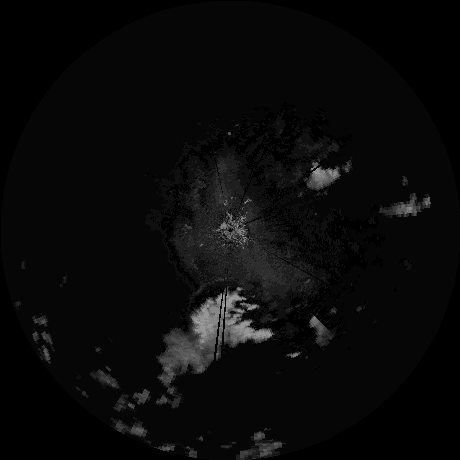frontgust: (187, 276, 239, 304)
